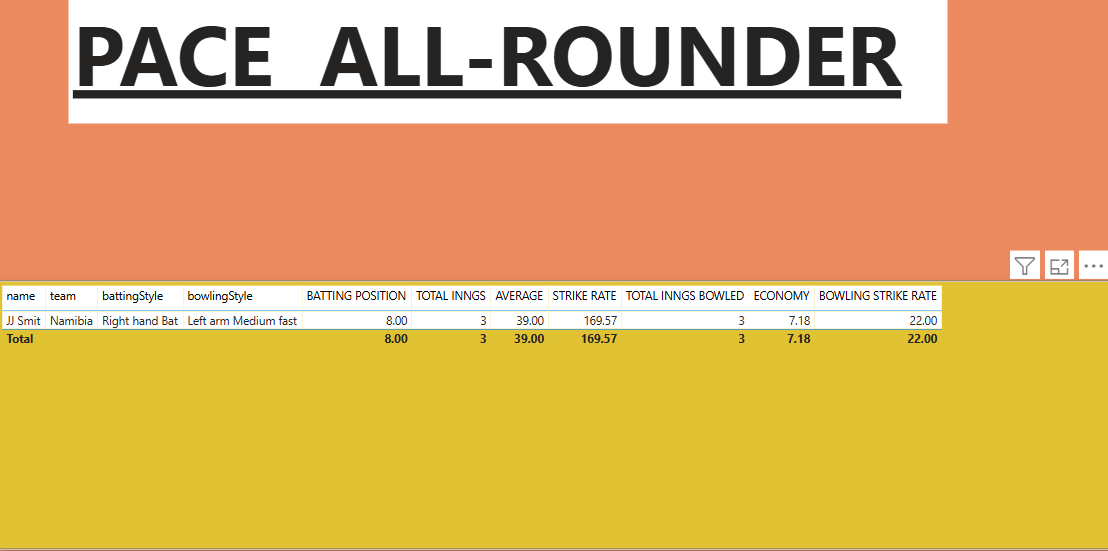

This screenshot's page, from the dashboard's own definition file:
{"tool":"powerbi","page":{"name":"PACE  ROUNDER","canvas":[1280,720],"ordinal":2},"visuals":[{"type":"tableEx","fields":{"Values":["player_info.name","player_info.team","player_info.battingStyle","player_info.bowlingStyle","Table.BATTING POSITION","Table.TOTAL INNGS","Table.AVERAGE","Table.STRIKE RATE","Table.TOTAL INNGS BOWLED","Table.ECONOMY","Table.BOWLING STRIKE RATE"]},"box":[0,331.9,1280.3,308.9],"z":0},{"type":"textbox","box":[83.3,0,1010.2,150.9],"z":1}]}

Visuals, with their boxes on the page's 1280x720 design canvas (x1, y1, x2, y2). These are canvas units, not pixel positions in the 1108x551 screenshot, which may show the page scaled, cropped or inside an application window:
tableEx - player_info.name x player_info.team: bbox=(0, 332, 1280, 641)
textbox: bbox=(83, 0, 1094, 151)
